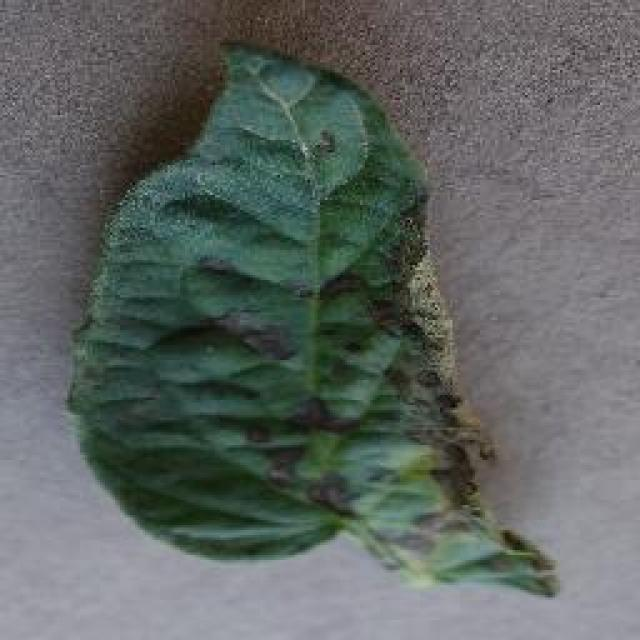Tomato_Early_Blight: (241, 158, 561, 596)
